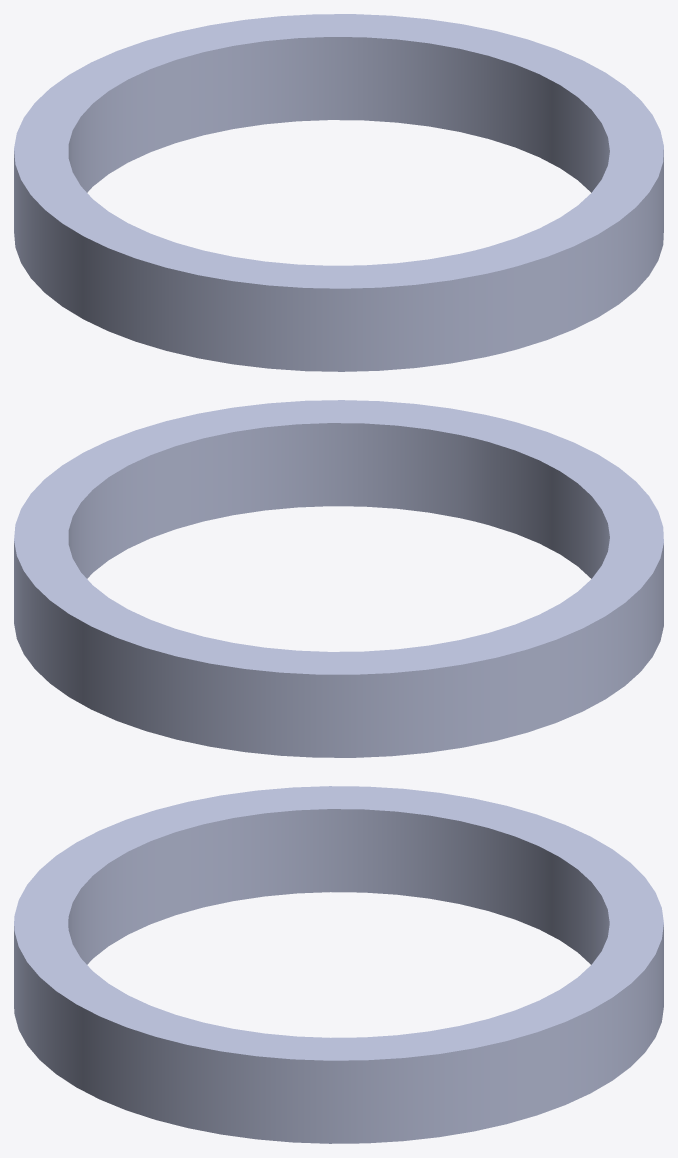
File: UA_26EV_Gearbox__Input_shaft_inner_spacer_1.dae
3 renders of one model, top to bottom at view 1: azimuth 30°, elevation 25°; view 2: azimuth 150°, elevation 25°; view 3: azimuth 270°, elevation 25°, orthographic.
Parts seen in each view (by area): view 1: node0; view 2: node0; view 3: node0.
Part boxes in pixels (left/top/right/bottom): node0: left=14, top=14, right=663, bottom=371; node0: left=14, top=400, right=663, bottom=757; node0: left=14, top=786, right=663, bottom=1143.
Bounding box in the file's own units: 0.018 × 0.00254 × 0.018.
